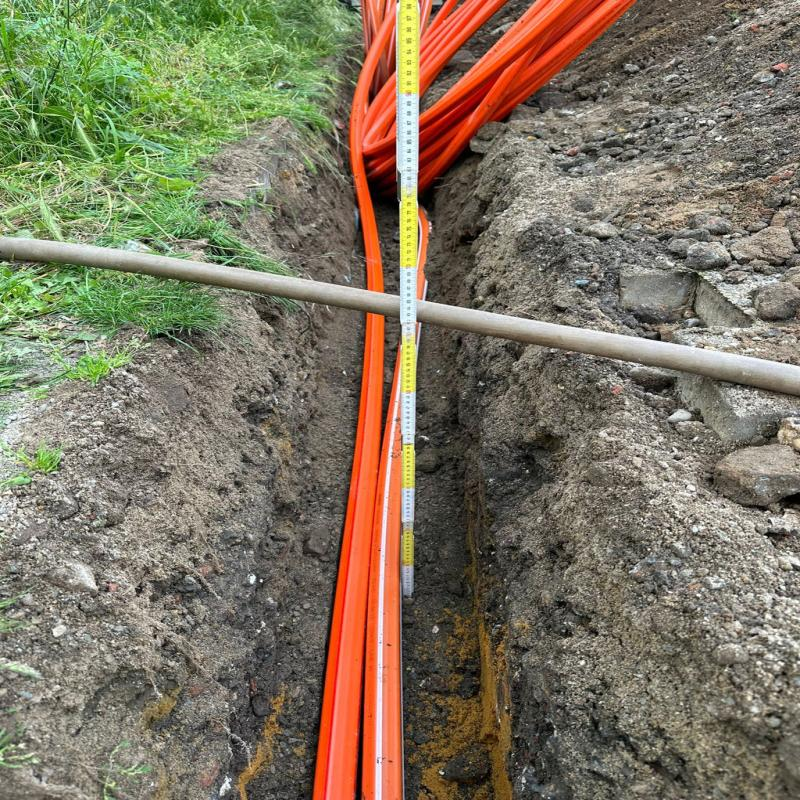Orang-Speednetrohrchen: (313, 0, 631, 800)
